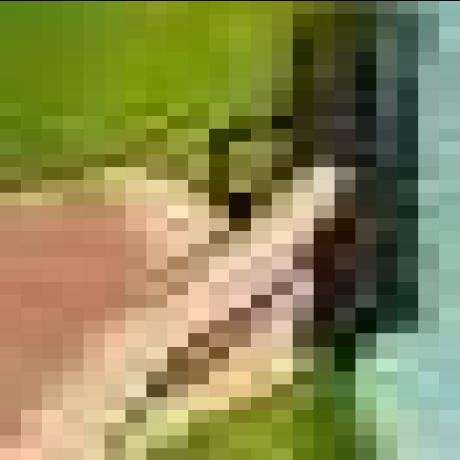weapon: (170, 9, 444, 370)
